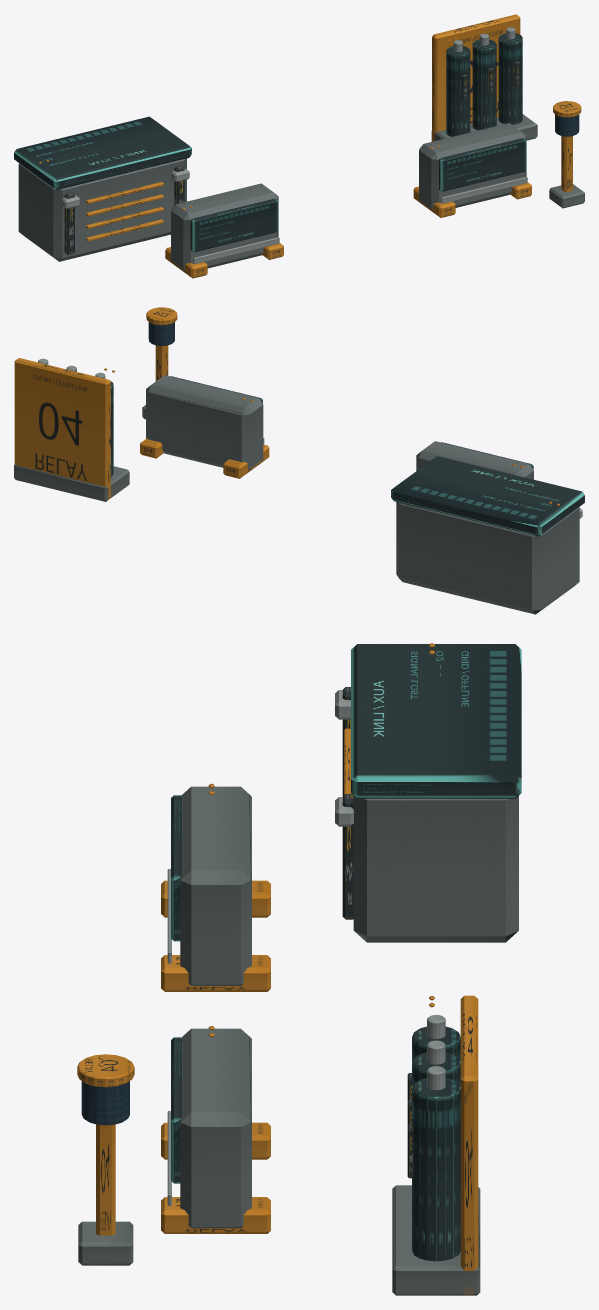
File: CoverCheckpoint_LOD0.obj
3 renders of one model, top to bottom at view 1: azimuth 30°, elevation 25°; view 2: azimuth 150°, elevation 25°; view 3: azimuth 270°, elevation 25°, orthographic. The views are drawn at different scales.
Parts seen in each view (by area): view 1: 002_cargo_container, 003_oxygen_rack, 000_barricade_2m, 001_barricade_2m, 004_warning_beacon; view 2: 002_cargo_container, 003_oxygen_rack, 001_barricade_2m, 000_barricade_2m, 004_warning_beacon; view 3: 002_cargo_container, 003_oxygen_rack, 000_barricade_2m, 001_barricade_2m, 004_warning_beacon.
Boxes of the visible parts, left/top/right/bottom form: 002_cargo_container: left=14, top=116, right=191, bottom=261; 003_oxygen_rack: left=431, top=14, right=537, bottom=141; 000_barricade_2m: left=165, top=183, right=283, bottom=278; 001_barricade_2m: left=413, top=123, right=531, bottom=217; 004_warning_beacon: left=549, top=101, right=584, bottom=208; 002_cargo_container: left=391, top=456, right=584, bottom=614; 003_oxygen_rack: left=14, top=358, right=129, bottom=501; 001_barricade_2m: left=140, top=375, right=269, bottom=478; 000_barricade_2m: left=416, top=441, right=533, bottom=479; 004_warning_beacon: left=142, top=307, right=177, bottom=419; 002_cargo_container: left=335, top=643, right=521, bottom=942; 003_oxygen_rack: left=392, top=995, right=480, bottom=1295; 000_barricade_2m: left=161, top=783, right=270, bottom=991; 001_barricade_2m: left=161, top=1026, right=270, bottom=1233; 004_warning_beacon: left=77, top=1054, right=134, bottom=1265.
Size of the model in its own units: 10.35 by 2.23 by 4.04.
Materials: 1 (1 with a texture image).
